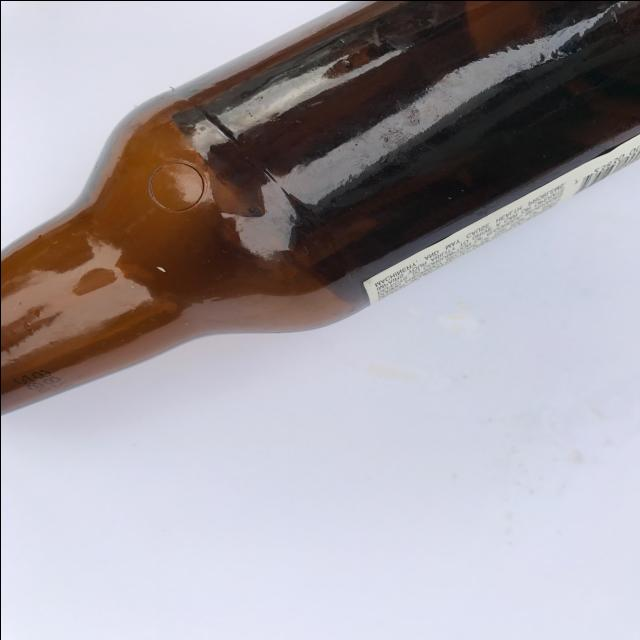glass: (2, 1, 640, 421)
